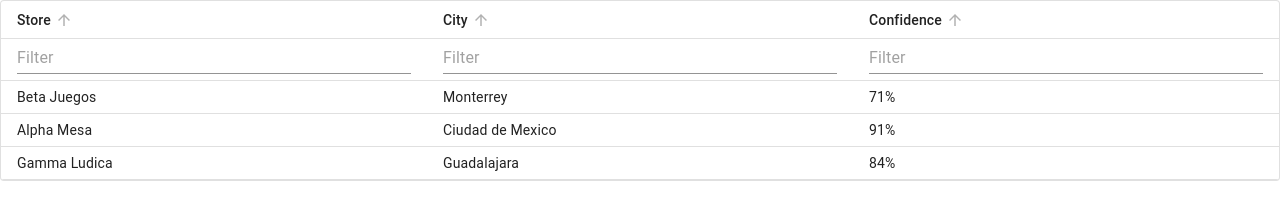
Scenario: DataTable › filters rows by column values
The image size is (1280, 198).
Type "mexico" into the field named "Filter City" at (640, 60), box [443,45,837,74]
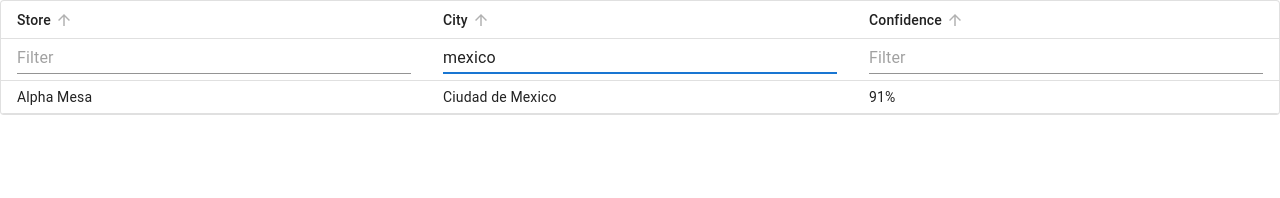
Expected: the text "Alpha Mesa" is shown, [17,89,92,105]
Expected: the text "Beta Juegos" is gone
Expected: the text "Gamma Ludica" is gone
